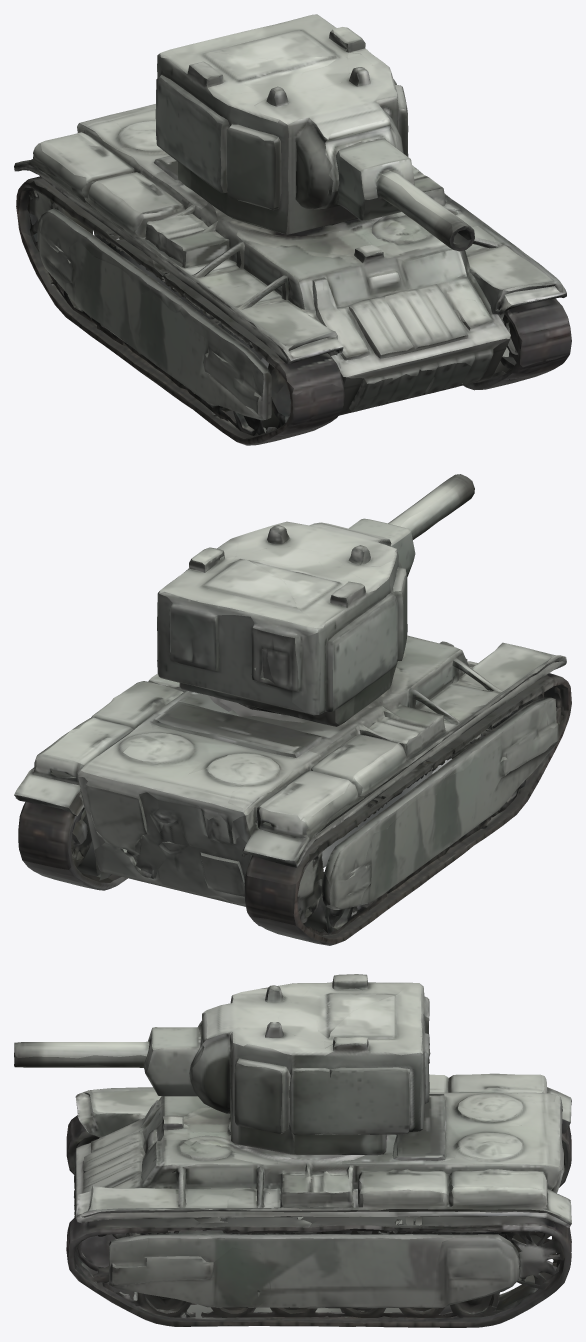
Rendered from land_heavy_v3_parts.glb.
The picture shows the model from 3 angles, top to bottom: view 1: azimuth 30°, elevation 25°; view 2: azimuth 150°, elevation 25°; view 3: azimuth 270°, elevation 25°; orthographic projection. The views are drawn at different scales.
Bounding box in the file's own units: 8.5 × 7.85 × 15.1.
Materials: 7 (7 with a texture image).
